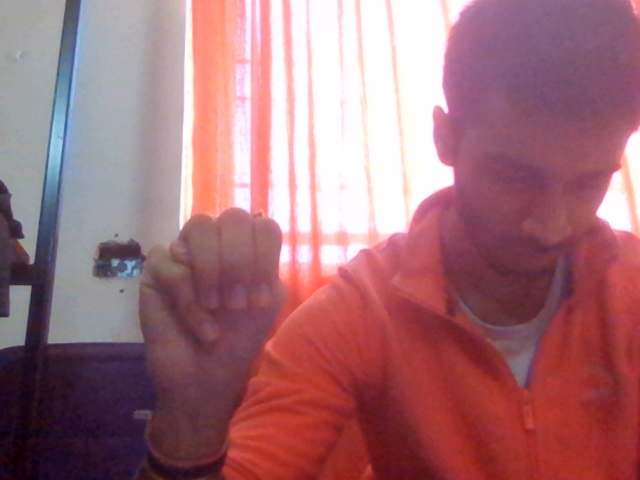M: (107, 193, 313, 445)
